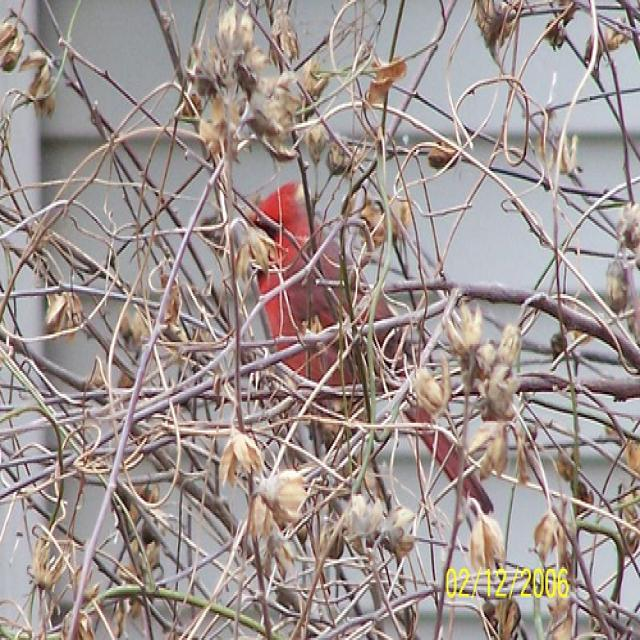bird: (245, 174, 497, 516)
